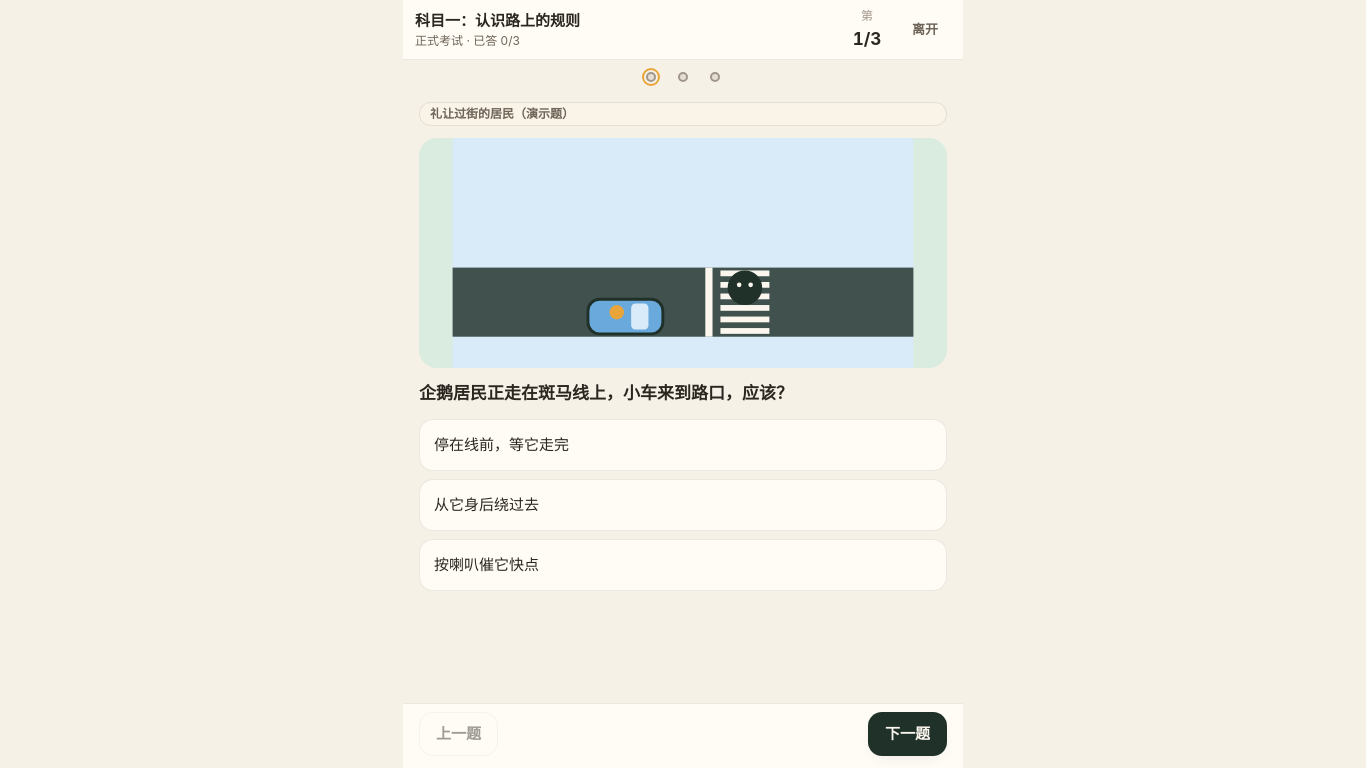
Test: driving school pages › leaving a formal exam keeps it open; abandoning needs a second confirmation and counts as a failure
Click the button "离开" at (925, 30), box [899,10,951,50]
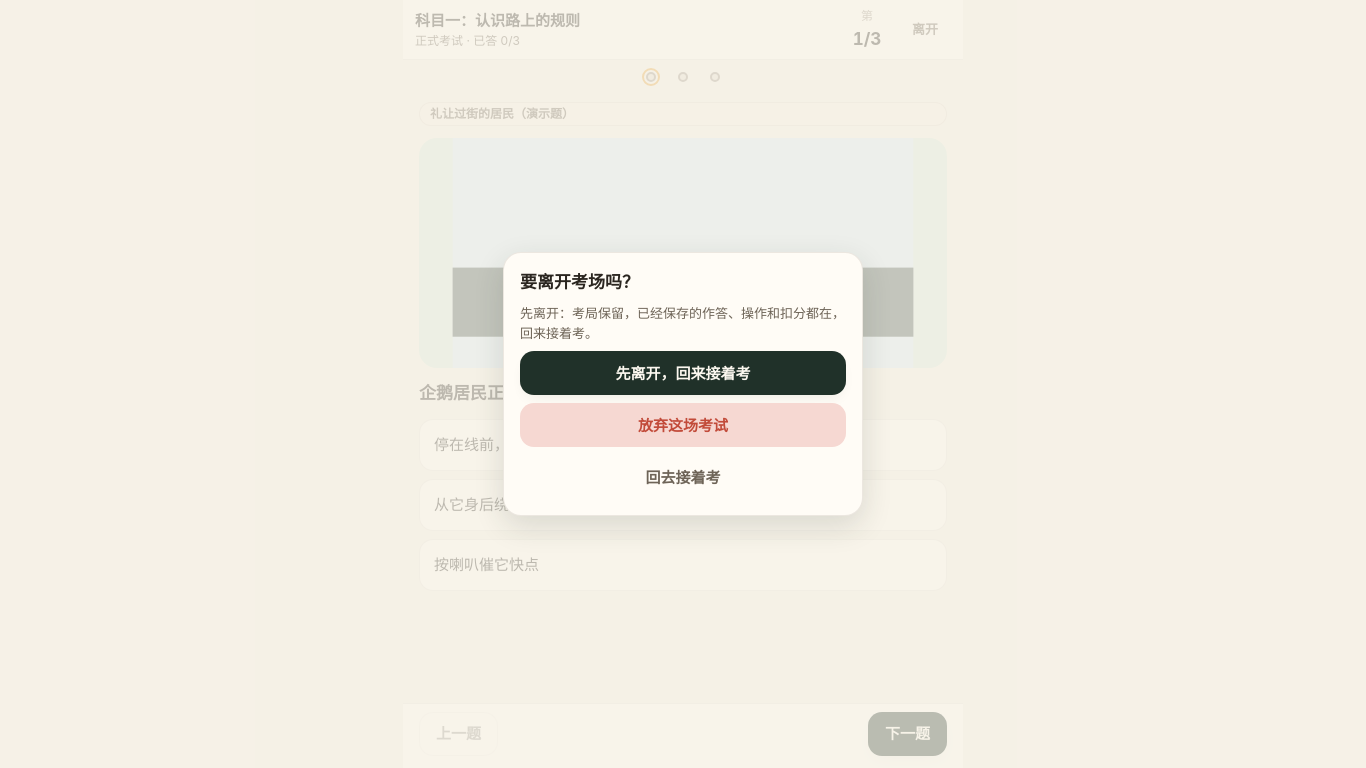
Click the button "放弃这场考试" at (683, 425), box [520,403,846,447]
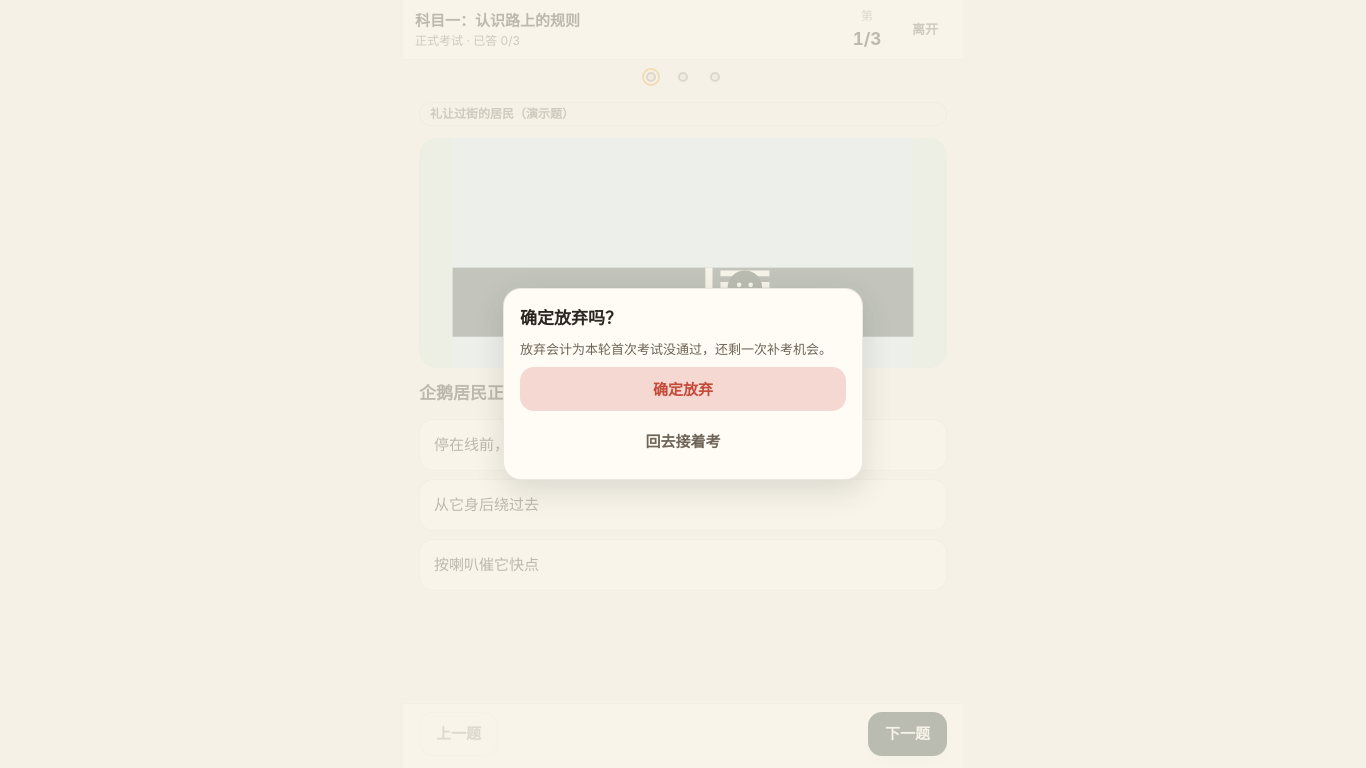
Expected: the text "计为本轮首次考试没通过" is shown, [520,339,846,359]
Click the button "确定放弃" at (683, 389), box [520,367,846,411]
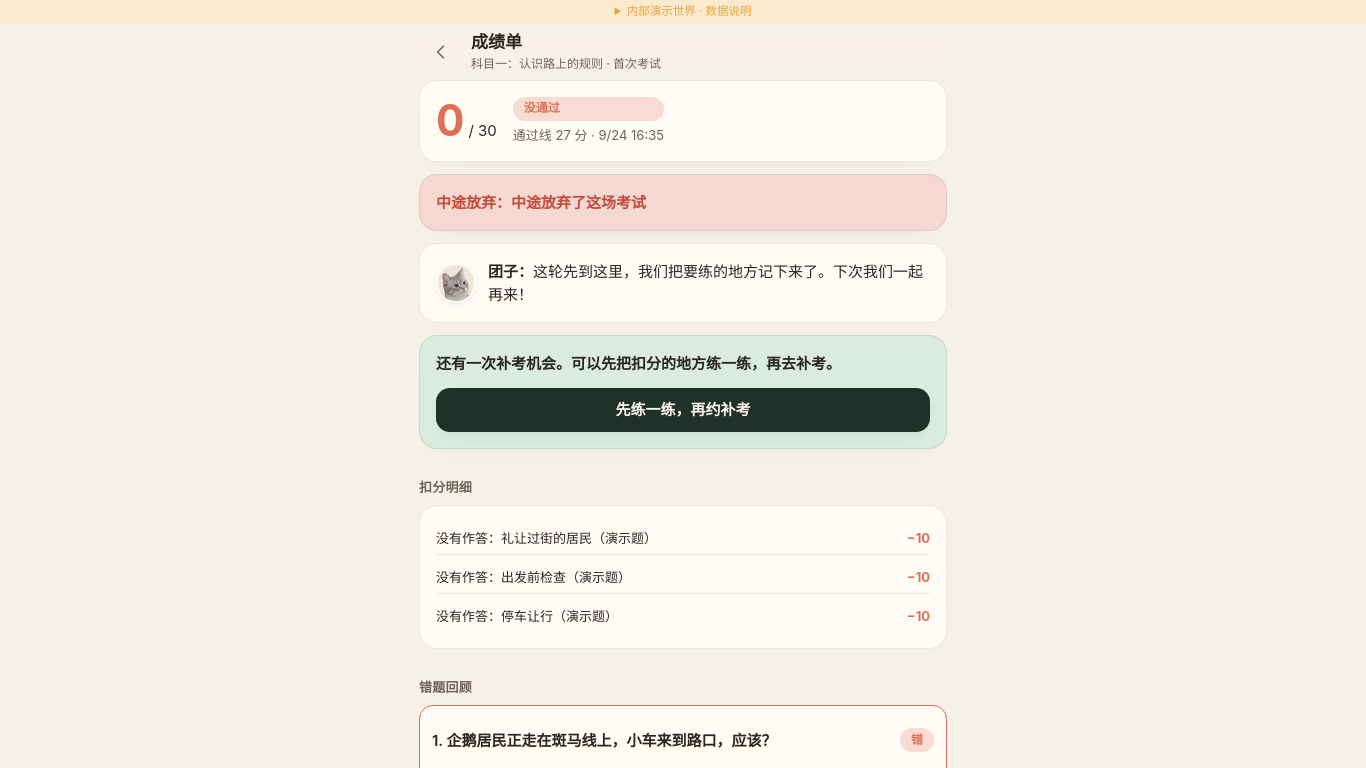
Expected: the text "中途放弃：中途放弃了这场考试" is shown, [436,193,646,212]
Expected: the text "还有一次补考机会。可以先把扣分的地方练一练，再去补考。" is shown, [436,354,841,373]
